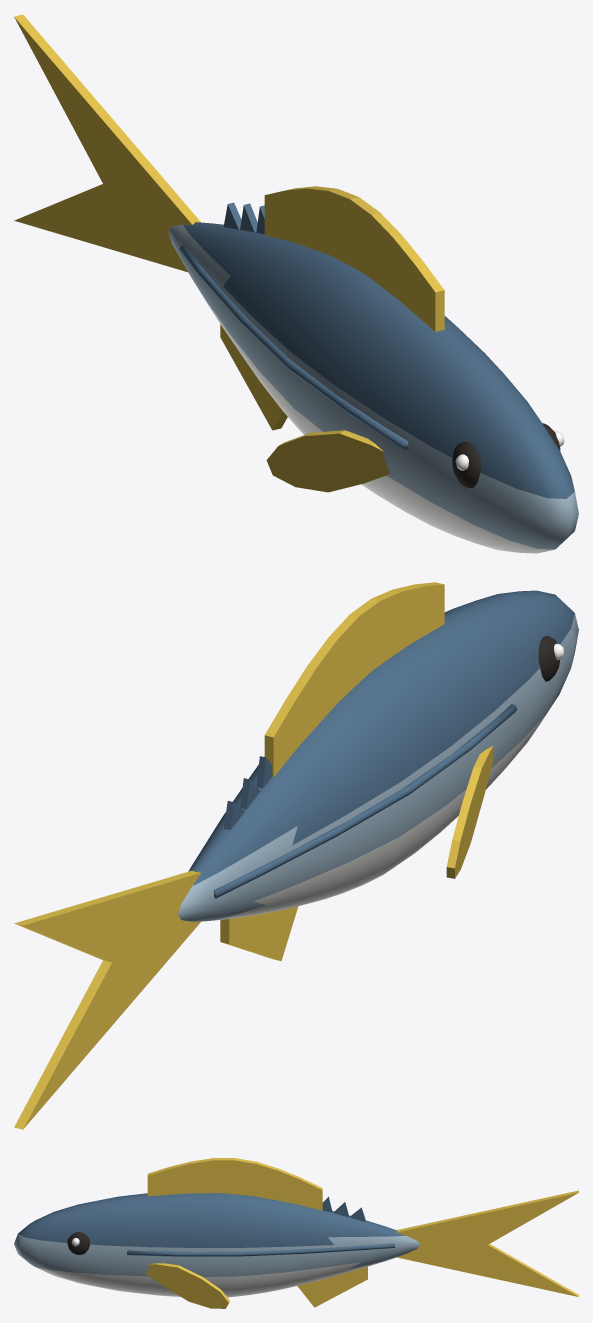
File: fish-yellowtail.glb
The picture shows the model from 3 angles, top to bottom: view 1: azimuth 30°, elevation 25°; view 2: azimuth 150°, elevation 25°; view 3: azimuth 270°, elevation 25°; orthographic projection. The views are drawn at different scales.
Parts seen in each view (by area): view 1: fish; view 2: fish; view 3: fish.
Boxes of the visible parts, x1=… form: fish: x1=14, y1=14, x2=578, y2=553; fish: x1=14, y1=582, x2=578, y2=1129; fish: x1=14, y1=1158, x2=578, y2=1308.
Size of the model in its own units: 0.1241 by 0.1814 by 0.63.
